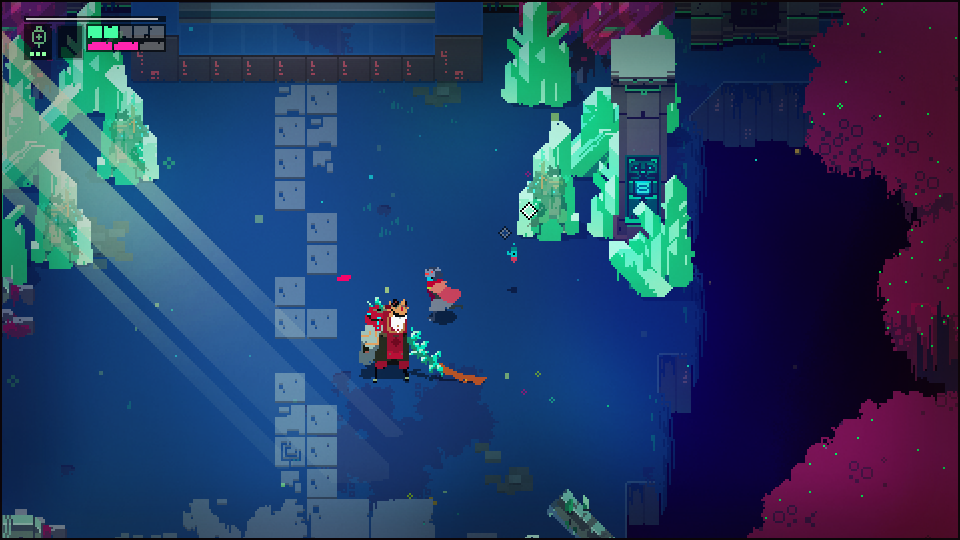hanged_man: (350, 296, 447, 384)
player: (424, 265, 457, 320)
